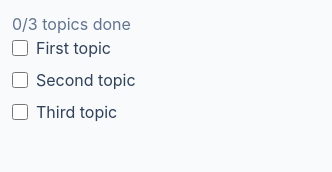
Test: Marking a week as done › shows the Done badge once every topic is checked
Click the checkbox labelled "First topic" at (20, 48), box left=12, top=40, right=28, bottom=56
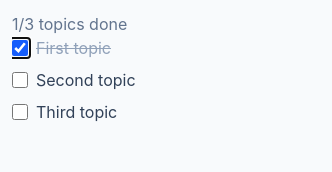
Click the checkbox labelled "Second topic" at (20, 80), box left=12, top=72, right=28, bottom=88
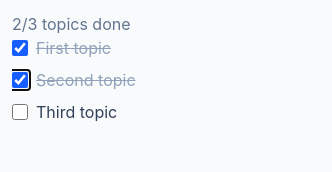
Click the checkbox labelled "Third topic" at (20, 112), box left=12, top=104, right=28, bottom=120
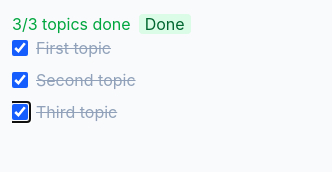
expect the checkbox labelled "First topic" is checked: met, box left=12, top=40, right=28, bottom=56
expect the checkbox labelled "Second topic" is checked: met, box left=12, top=72, right=28, bottom=88
expect the checkbox labelled "Third topic" is checked: met, box left=12, top=104, right=28, bottom=120
